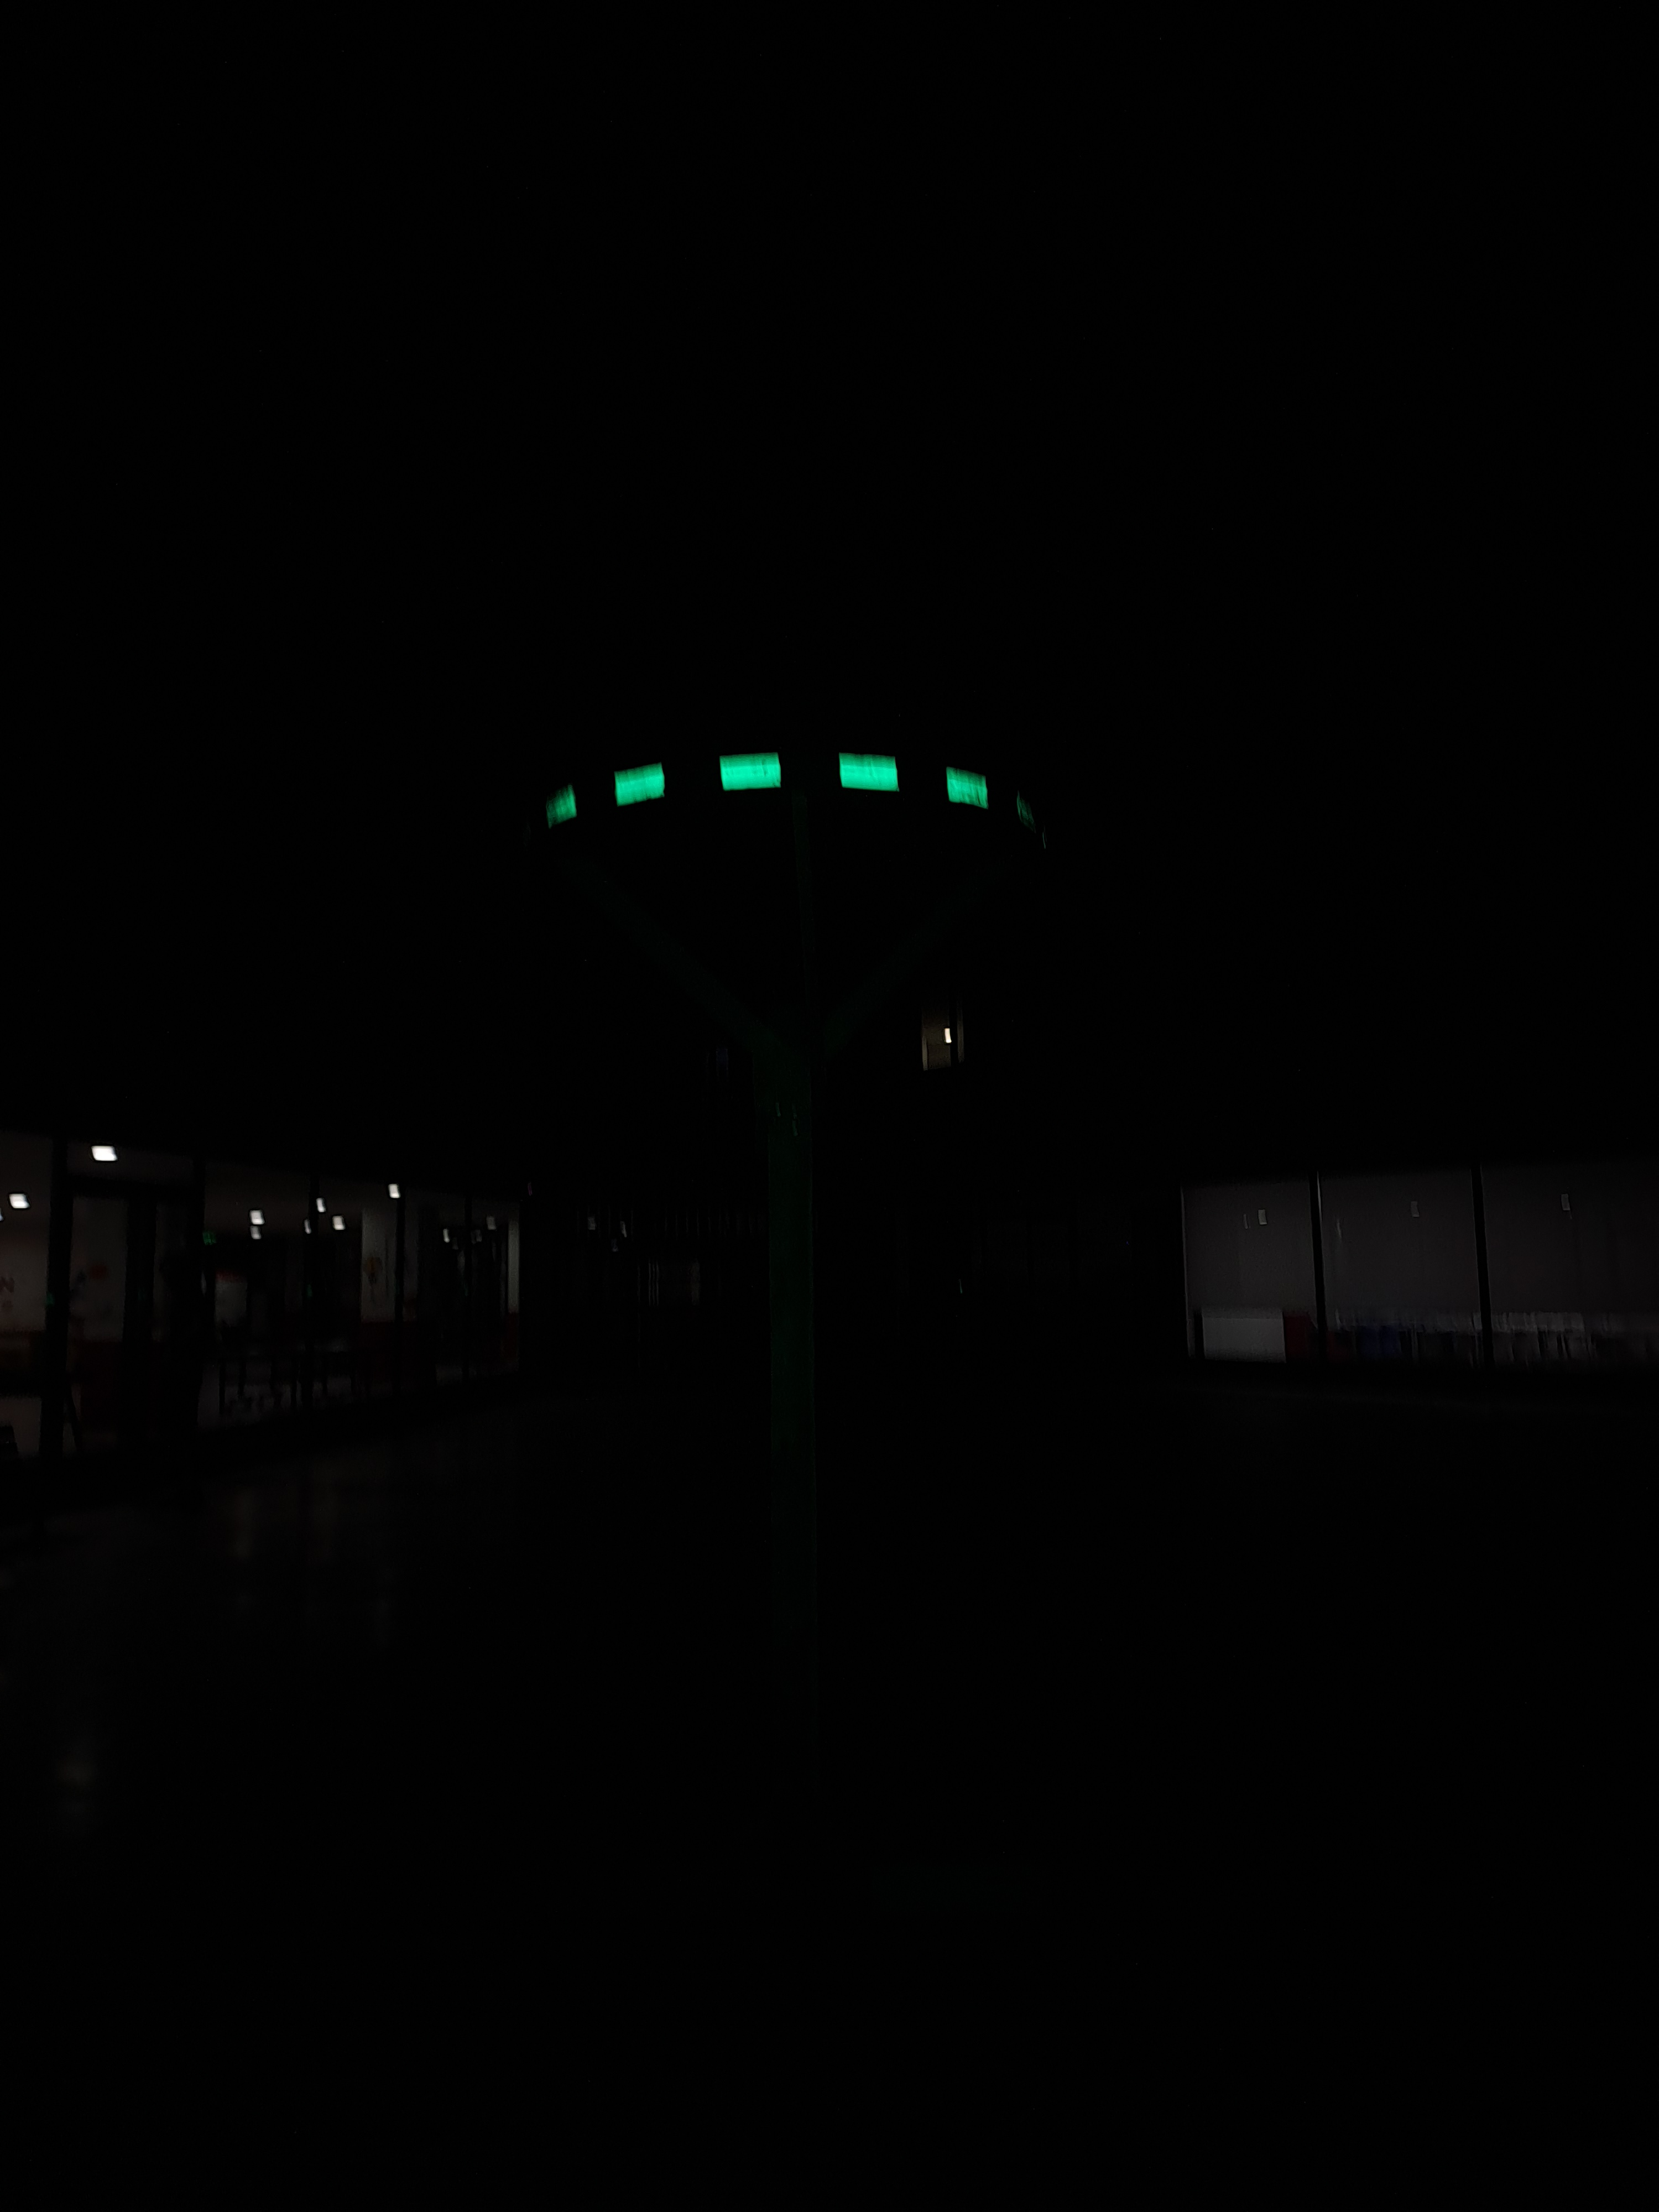hoop: (535, 738, 999, 841)
